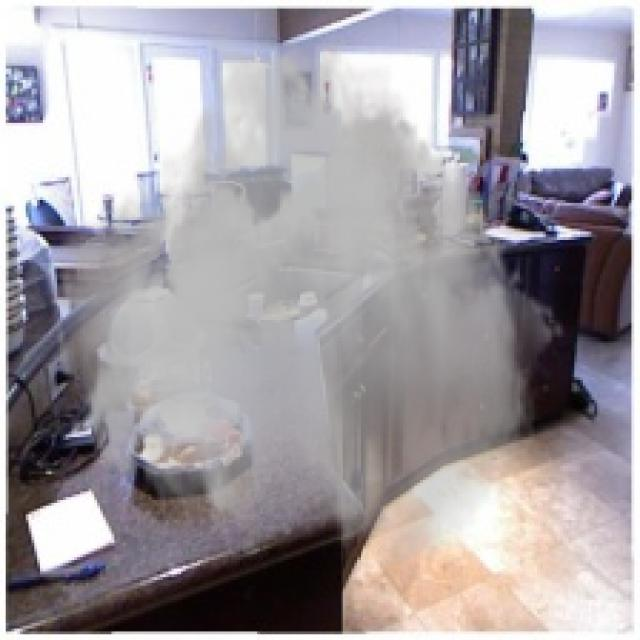smoke: (51, 14, 566, 572)
